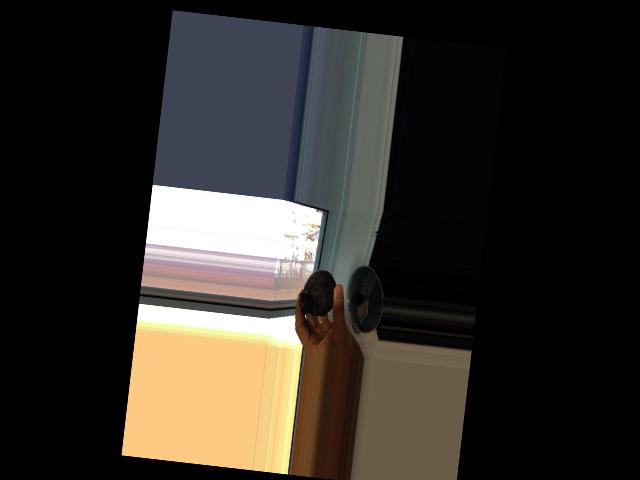beet: (296, 267, 338, 330)
